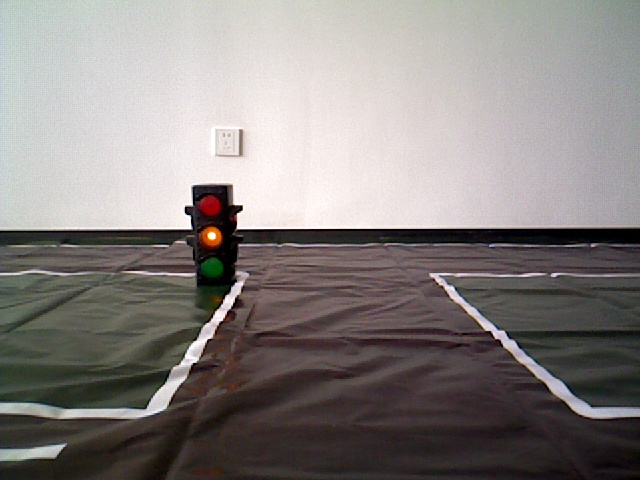yellow: (193, 184, 235, 287)
